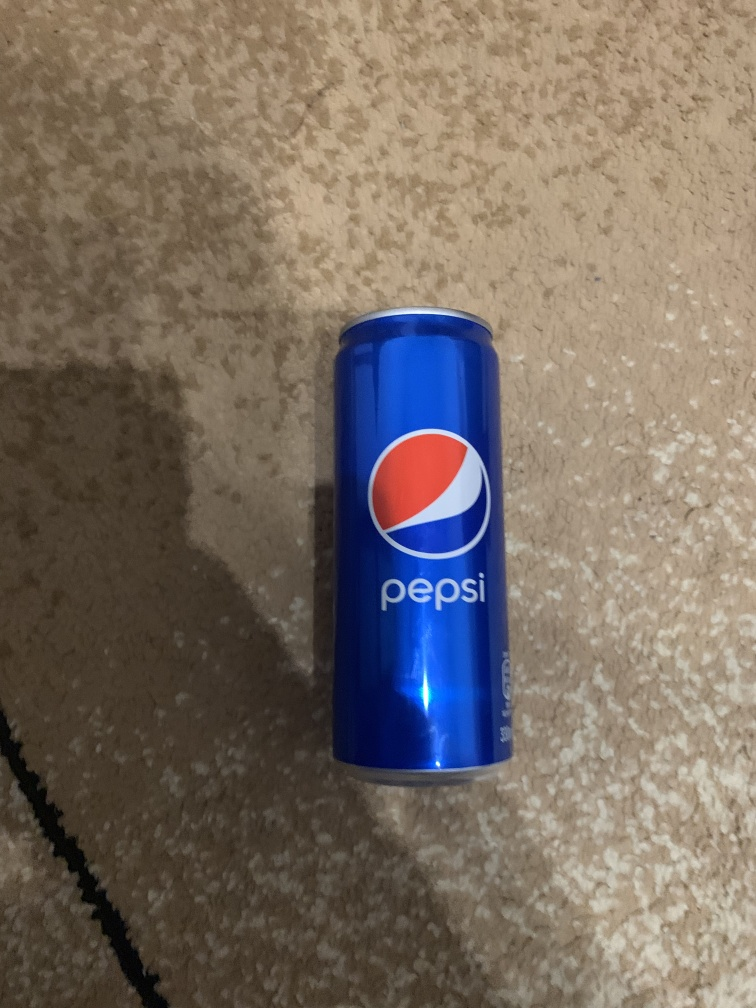pepsi: (330, 306, 521, 781)
